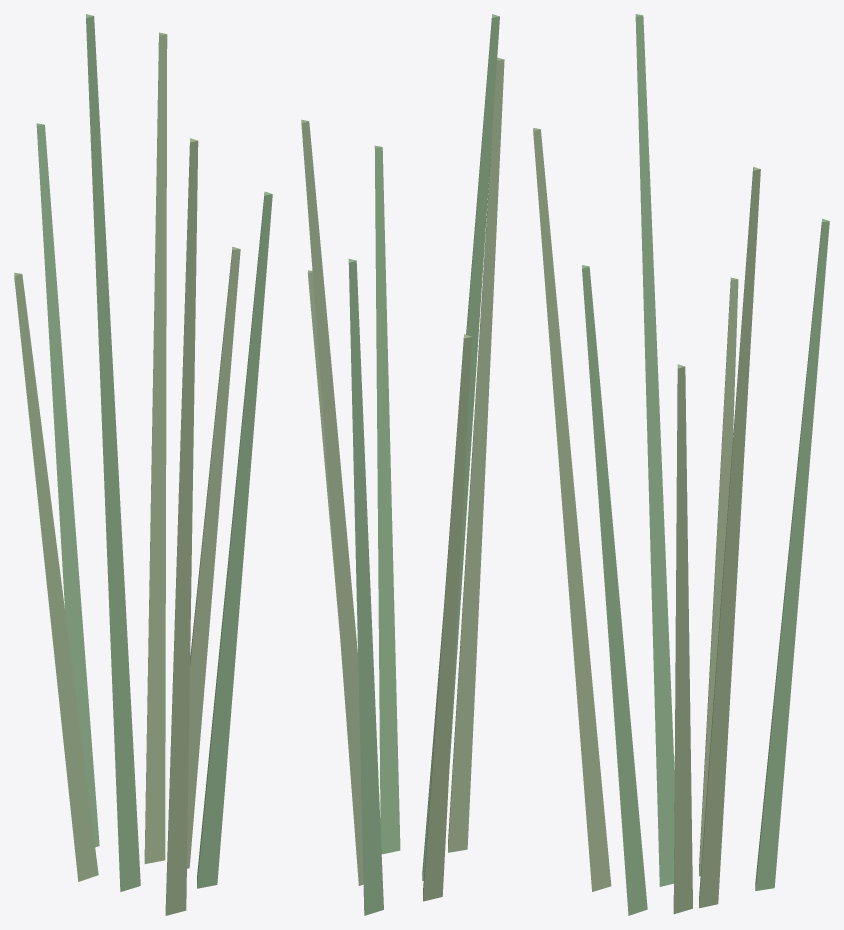
The model's file is reed_v02.glb.
3 renders of one model, left to right at view 1: azimuth 30°, elevation 25°; view 2: azimuth 150°, elevation 25°; view 3: azimuth 270°, elevation 25°, orthographic. The views are drawn at different scales.
Parts seen in each view (by area): view 1: lod0; view 2: lod0; view 3: lod0.
Boxes of the visible parts, x1,y1,x2,y2 form: lod0: (14, 14, 272, 915); lod0: (301, 14, 504, 915); lod0: (533, 14, 829, 915).
Size of what is drawn, in the model's own units: 0.335 by 1.45 by 0.4604.
